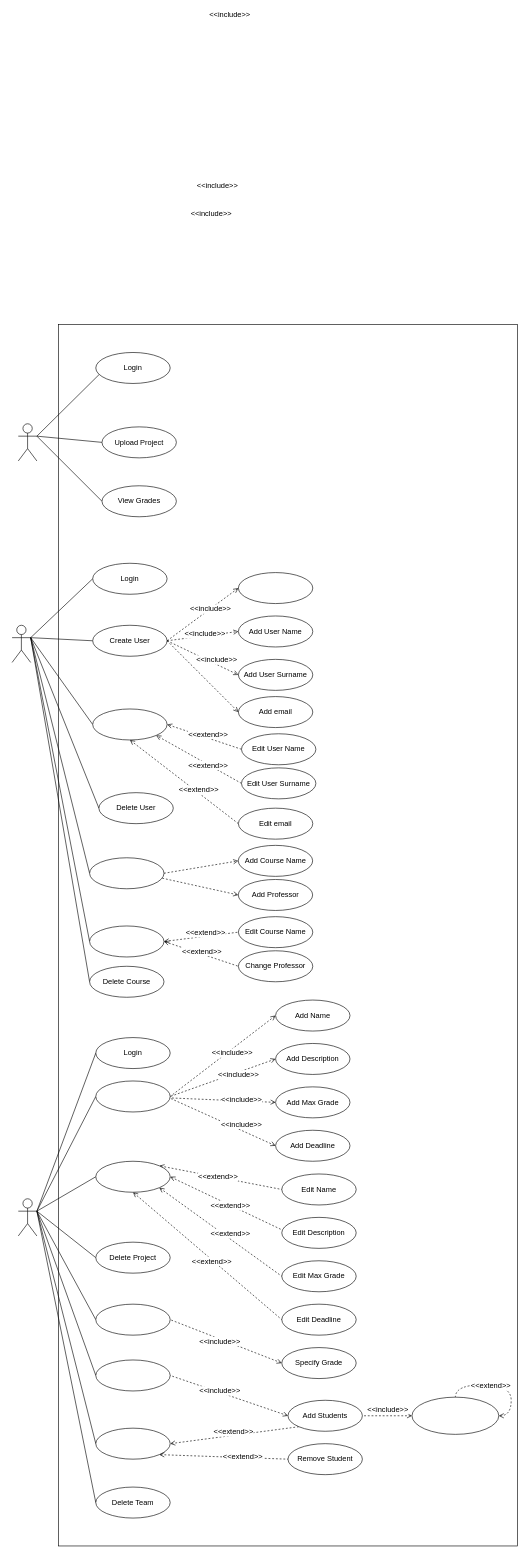
This 528x1557 diagram has some shape labels left out. The shapes that lost their labels are listed below. From the top down, each one's box as (x1, y1, x2, y2) in pixels, then its label:
(18, 423, 37, 461): Student
(238, 572, 313, 604): Add User Type
(11, 625, 31, 662): Admin
(92, 708, 167, 740): Edit User
(89, 857, 164, 889): Create Course
(89, 925, 164, 957): Edit Course
(95, 1080, 170, 1112): Create Project
(95, 1161, 170, 1192): Edit Project
(18, 1198, 37, 1236): Professor
(95, 1304, 170, 1335): Grade Project
(95, 1359, 170, 1391): Create Team
(411, 1397, 499, 1434): Specify Student's Registration Number
(95, 1428, 170, 1459): Edit Team
